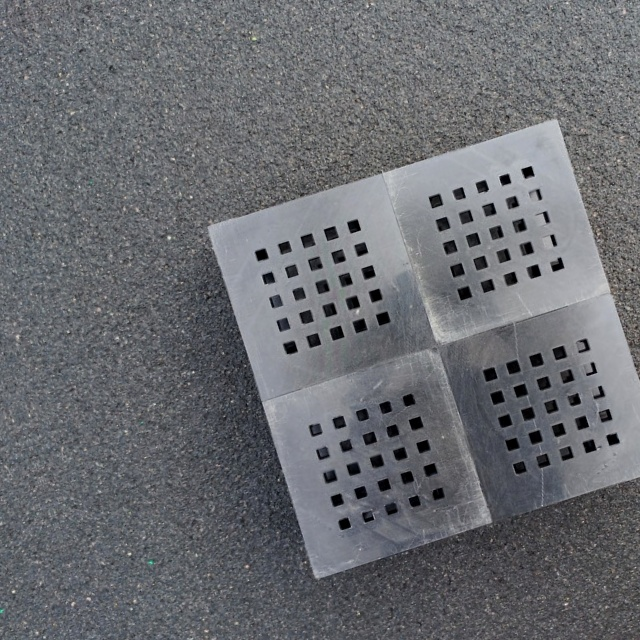pallet: (196, 111, 640, 590)
